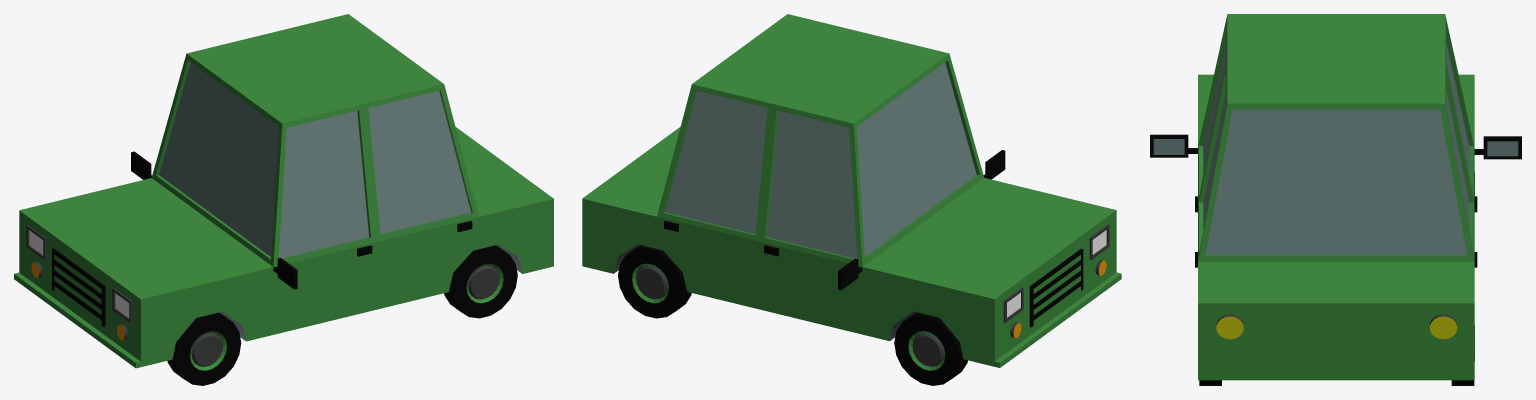
The model's file is car4D.FBX.
3 views of the same model, side by side, from view 1: azimuth 30°, elevation 25°; view 2: azimuth 150°, elevation 25°; view 3: azimuth 270°, elevation 25° (orthographic). The views are drawn at different scales.
Visible parts, largest first — view 1: car4D; view 2: car4D; view 3: car4D.
Boxes of the visible parts, x1,y1,x2,y2 form: car4D: [14, 14, 553, 385]; car4D: [582, 14, 1121, 385]; car4D: [1150, 14, 1521, 385].
Bounding box in the file's own units: 9.78 × 5.11 × 6.58.
